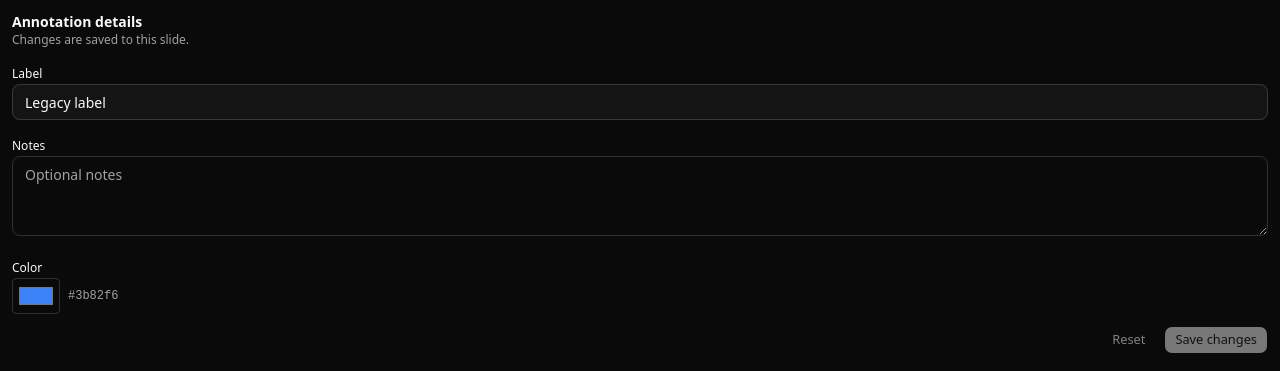
AnnotationEditor › resets a draft to the latest persisted fields
The width and height of the screenshot is (1280, 371).
Step 1. Replace the text in the field labelled "Label" with "Changed" → (640, 102), box [12,84,1268,120]
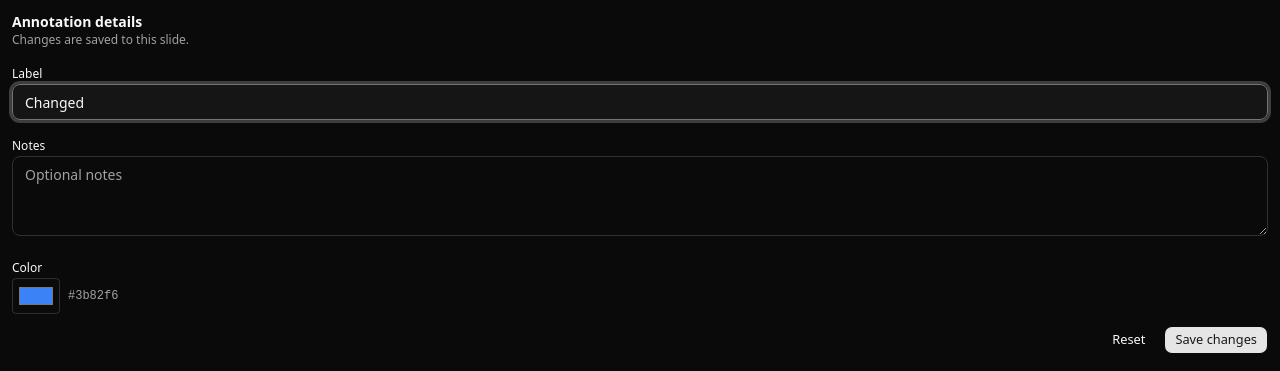
Step 2. Click the button "Reset" → (1129, 340), box [1101,326,1156,354]
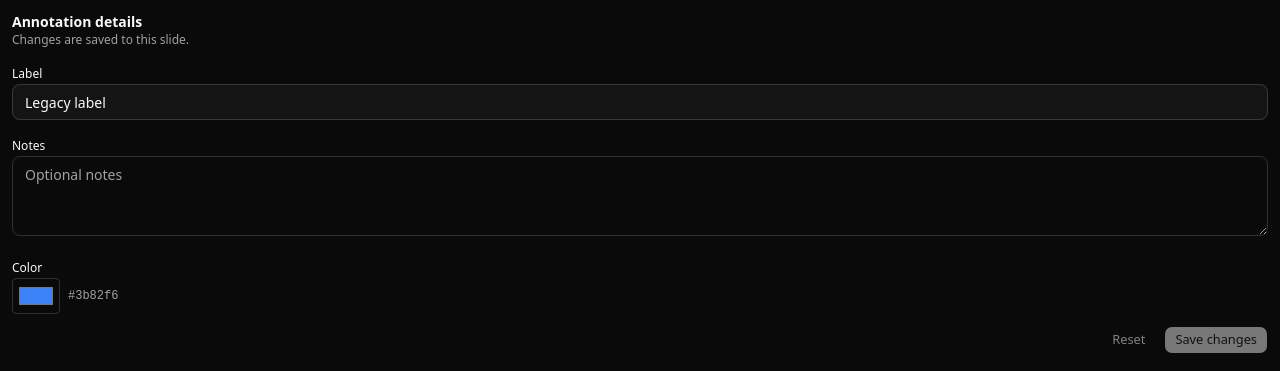
Check: the field labelled "Label" holds "Legacy label", box [12,84,1268,120]
Check: the button "Save changes" is disabled, box [1164,326,1268,354]
